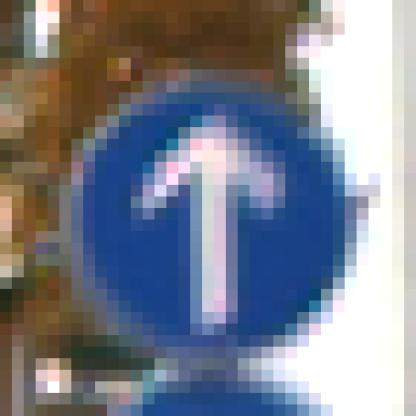AheadOnly: (60, 71, 346, 360)
